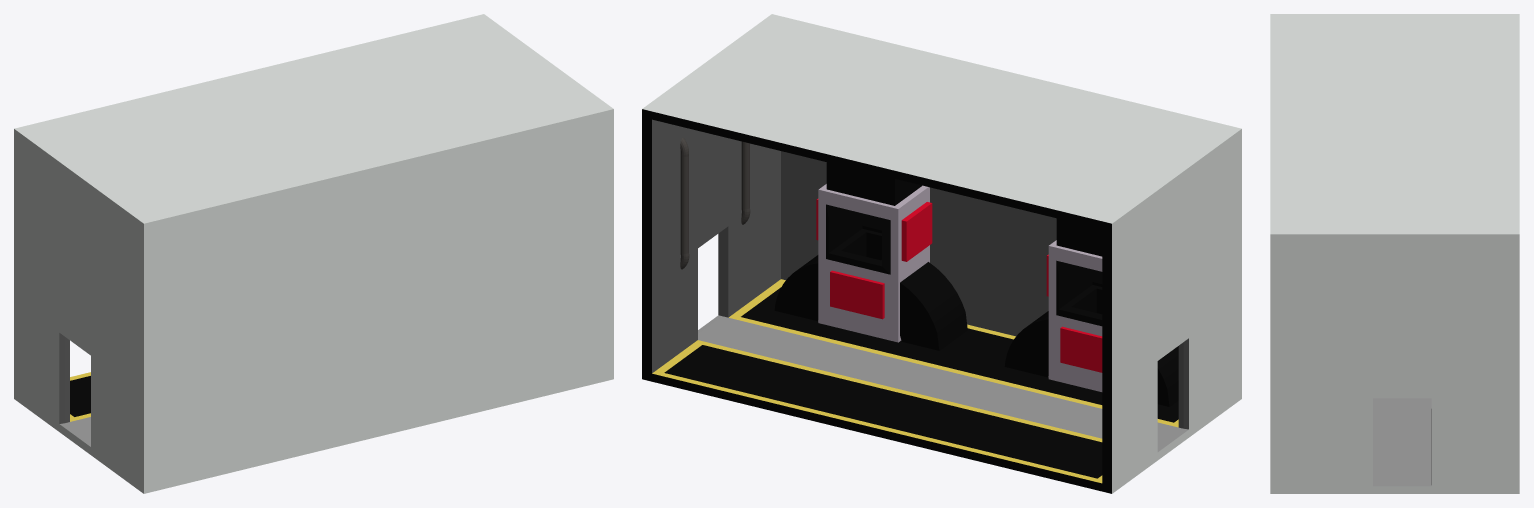
The model's file is PodRoom.fbx.
3 renders of one model, left to right at view 1: azimuth 30°, elevation 25°; view 2: azimuth 150°, elevation 25°; view 3: azimuth 270°, elevation 25°, orthographic. The views are drawn at different scales.
Parts seen in each view (by area): view 1: BaseRoom.002; view 2: BaseRoom.002; view 3: BaseRoom.002.
Boxes of the visible parts, left/top/right/bottom form: BaseRoom.002: left=14, top=14, right=613, bottom=493; BaseRoom.002: left=642, top=14, right=1241, bottom=493; BaseRoom.002: left=1270, top=14, right=1519, bottom=493.
Size of the model in its own units: 1806 by 992 by 864.
